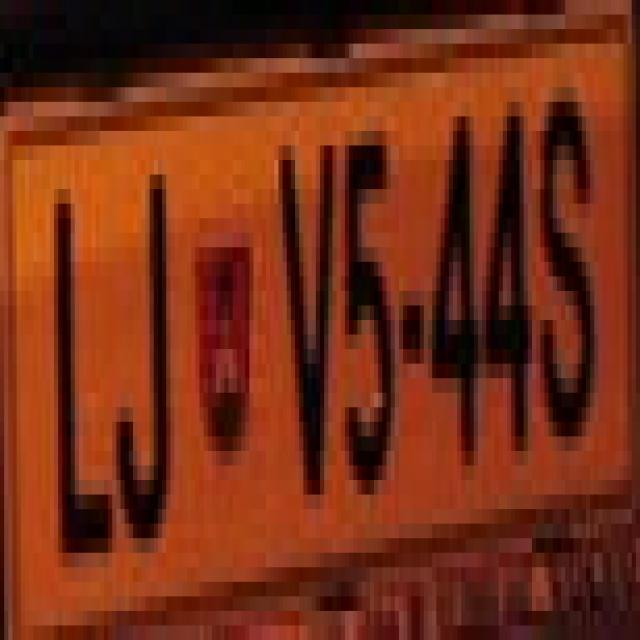4: (432, 102, 490, 480), (482, 102, 532, 466)
5: (332, 102, 408, 494)
L: (42, 189, 116, 582)
S: (540, 73, 598, 451)
V: (270, 131, 333, 524)
